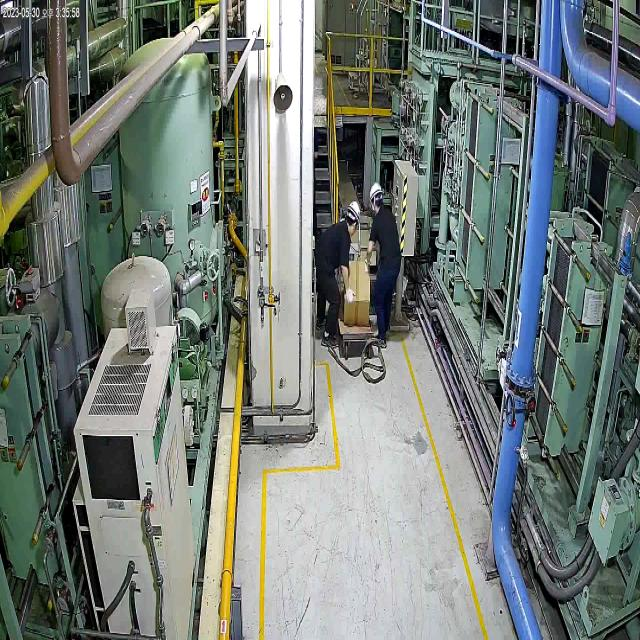worker: (311, 192, 366, 348), (364, 176, 404, 357)
